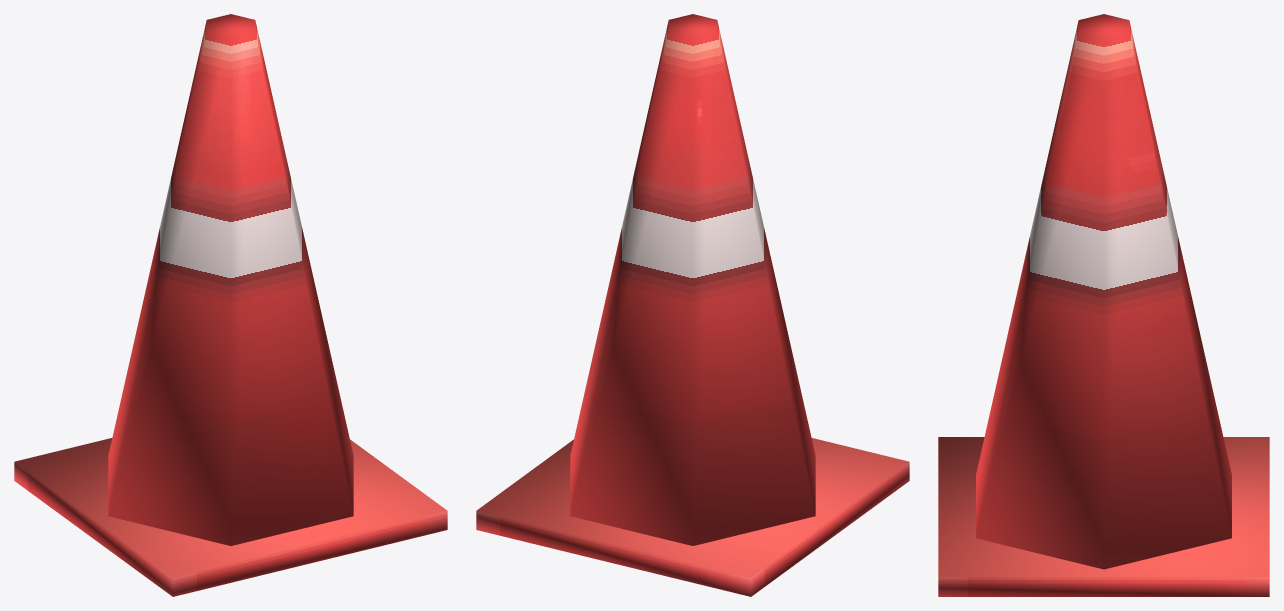
Rendered from traffic-cone.fbx.
3 views of the same model, side by side, from view 1: azimuth 30°, elevation 25°; view 2: azimuth 150°, elevation 25°; view 3: azimuth 270°, elevation 25° (orthographic). The views are drawn at different scales.
Visible parts, largest first — view 1: TrafficCone; view 2: TrafficCone; view 3: TrafficCone.
Part boxes in pixels (bbox=[...]): TrafficCone: bbox=[14, 14, 447, 596]; TrafficCone: bbox=[476, 14, 909, 596]; TrafficCone: bbox=[938, 14, 1269, 596].
Bounding box in the file's own units: 0.45 × 0.7505 × 0.45.
